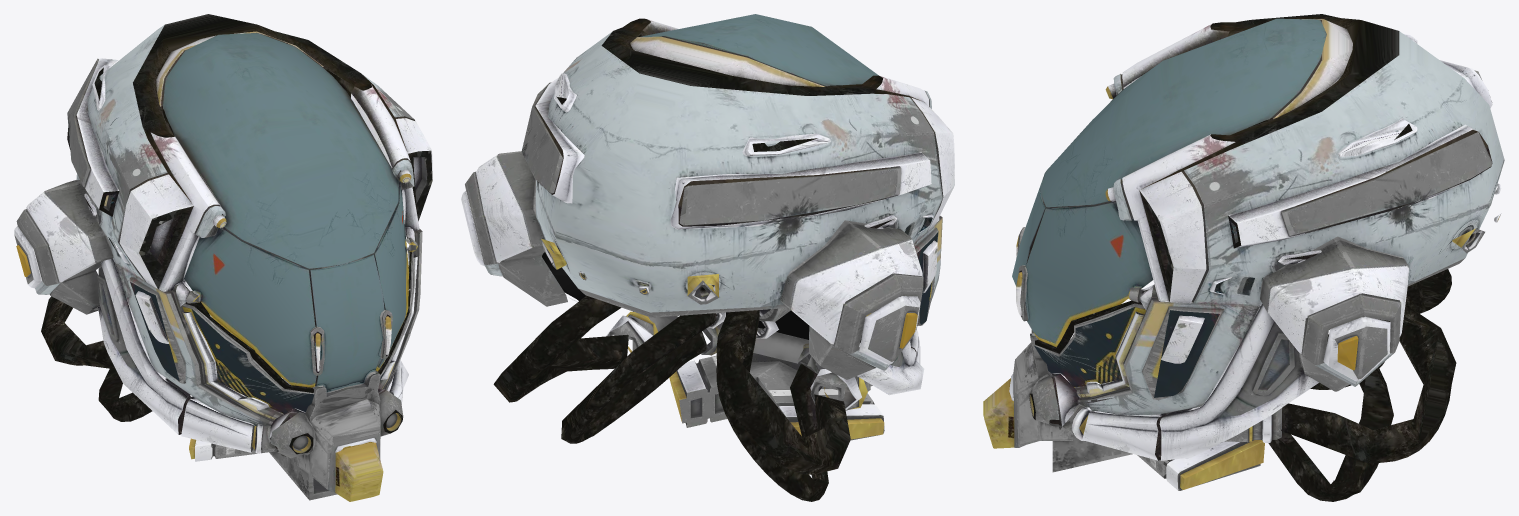
File: DamagedHelmet.lod1.glb
The picture shows the model from 3 angles, left to right: view 1: azimuth 30°, elevation 25°; view 2: azimuth 150°, elevation 25°; view 3: azimuth 270°, elevation 25°; orthographic projection. The views are drawn at different scales.
Parts seen in each view (by area): view 1: node_damagedHelmet_-6514; view 2: node_damagedHelmet_-6514; view 3: node_damagedHelmet_-6514.
Boxes of the visible parts, x1,y1,x2,y2 form: node_damagedHelmet_-6514: (14, 14, 432, 501); node_damagedHelmet_-6514: (461, 14, 954, 501); node_damagedHelmet_-6514: (983, 14, 1504, 501).
Bounding box in the file's own units: 1.89 × 1.78 × 1.98.
Materials: 1 (1 with a texture image).
